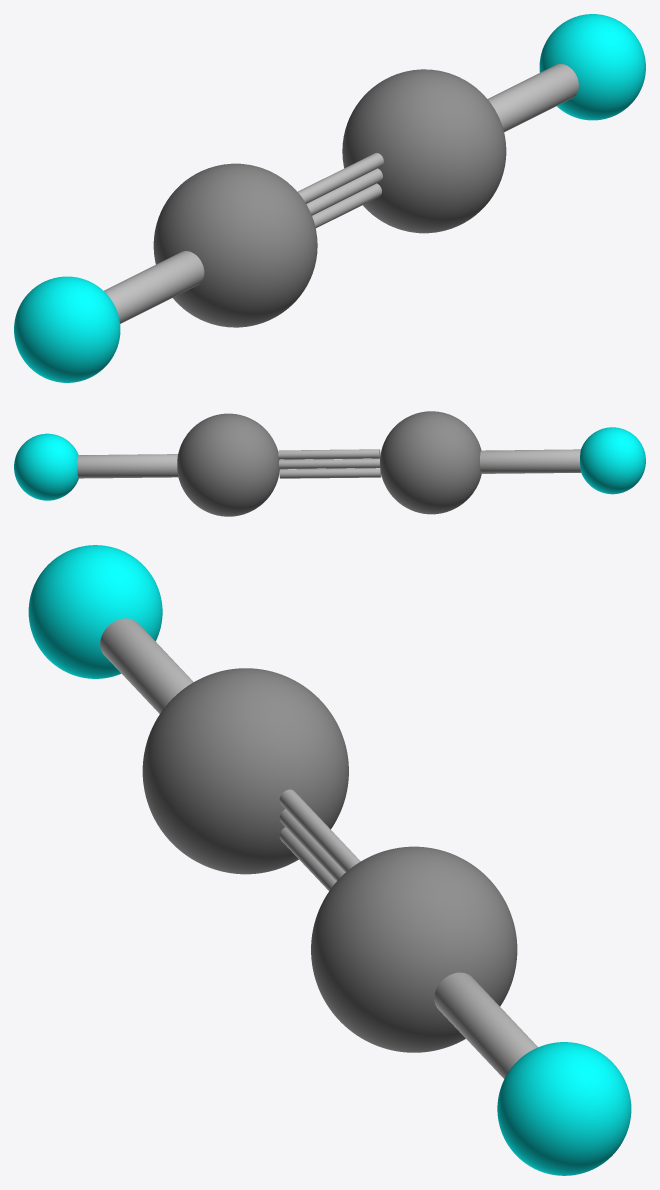
Rendered from acetylene.glb.
The picture shows the model from 3 angles, top to bottom: view 1: azimuth 30°, elevation 25°; view 2: azimuth 150°, elevation 25°; view 3: azimuth 270°, elevation 25°; orthographic projection. The views are drawn at different scales.
Parts seen in each view (by area): view 1: CMAtom_0, CMAtom_2, CMAtom_3, CMAtom_1, CMBond_5_Segment_0, CMBond_1_Segment_0, CMBond_4_Segment_0, CMBond_3_Segment_0, CMBond_2_Segment_0; view 2: CMAtom_0, CMAtom_2, CMAtom_3, CMAtom_1, CMBond_1_Segment_0, CMBond_5_Segment_0, CMBond_4_Segment_0, CMBond_2_Segment_0, CMBond_3_Segment_0; view 3: CMAtom_2, CMAtom_0, CMAtom_1, CMAtom_3, CMBond_1_Segment_0, CMBond_5_Segment_0, CMBond_4_Segment_0, CMBond_3_Segment_0, CMBond_2_Segment_0.
Part boxes in pixels (x1=…): CMAtom_0: x1=342, y1=69, x2=506, y2=233; CMAtom_2: x1=153, y1=163, x2=317, y2=327; CMAtom_3: x1=14, y1=276, x2=120, y2=382; CMAtom_1: x1=539, y1=14, x2=645, y2=120; CMBond_5_Segment_0: x1=104, y1=251, x2=204, y2=323; CMBond_1_Segment_0: x1=487, y1=64, x2=578, y2=132; CMBond_4_Segment_0: x1=297, y1=153, x2=383, y2=203; CMBond_3_Segment_0: x1=306, y1=168, x2=382, y2=215; CMBond_2_Segment_0: x1=312, y1=183, x2=381, y2=227; CMAtom_0: x1=177, y1=413, x2=279, y2=516; CMAtom_2: x1=380, y1=411, x2=481, y2=514; CMAtom_3: x1=580, y1=427, x2=645, y2=494; CMAtom_1: x1=14, y1=433, x2=78, y2=500; CMBond_1_Segment_0: x1=77, y1=454, x2=178, y2=478; CMBond_5_Segment_0: x1=480, y1=449, x2=580, y2=473; CMBond_4_Segment_0: x1=278, y1=449, x2=380, y2=459; CMBond_2_Segment_0: x1=279, y1=468, x2=381, y2=478; CMBond_3_Segment_0: x1=279, y1=458, x2=379, y2=469; CMAtom_2: x1=142, y1=668, x2=348, y2=874; CMAtom_0: x1=311, y1=846, x2=517, y2=1052; CMAtom_1: x1=497, y1=1042, x2=631, y2=1175; CMAtom_3: x1=28, y1=545, x2=162, y2=678; CMBond_1_Segment_0: x1=434, y1=972, x2=537, y2=1078; CMBond_5_Segment_0: x1=100, y1=618, x2=193, y2=713; CMBond_4_Segment_0: x1=279, y1=789, x2=360, y2=872; CMBond_3_Segment_0: x1=279, y1=809, x2=345, y2=880; CMBond_2_Segment_0: x1=279, y1=827, x2=336, y2=890.
Bounding box in the file's own units: 3.49 × 0.6868 × 1.8.
